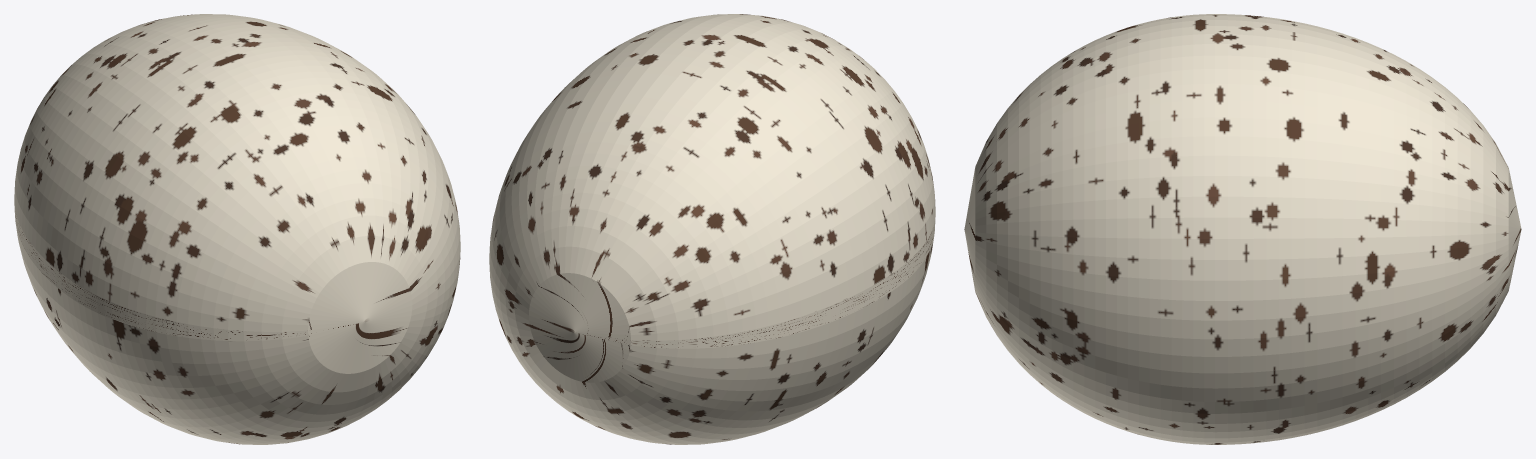
3 views of the same model, side by side, from view 1: azimuth 30°, elevation 25°; view 2: azimuth 150°, elevation 25°; view 3: azimuth 270°, elevation 25° (orthographic). The views are drawn at different scales.
Visible parts, largest first — view 1: world; view 2: world; view 3: world.
Boxes of the visible parts, x1=… form: world: x1=14, y1=14, x2=460, y2=444; world: x1=489, y1=14, x2=935, y2=444; world: x1=964, y1=14, x2=1521, y2=444.
Size of the model in its own units: 0.027 by 0.027 by 0.0349.
1 material, 1 textured.
